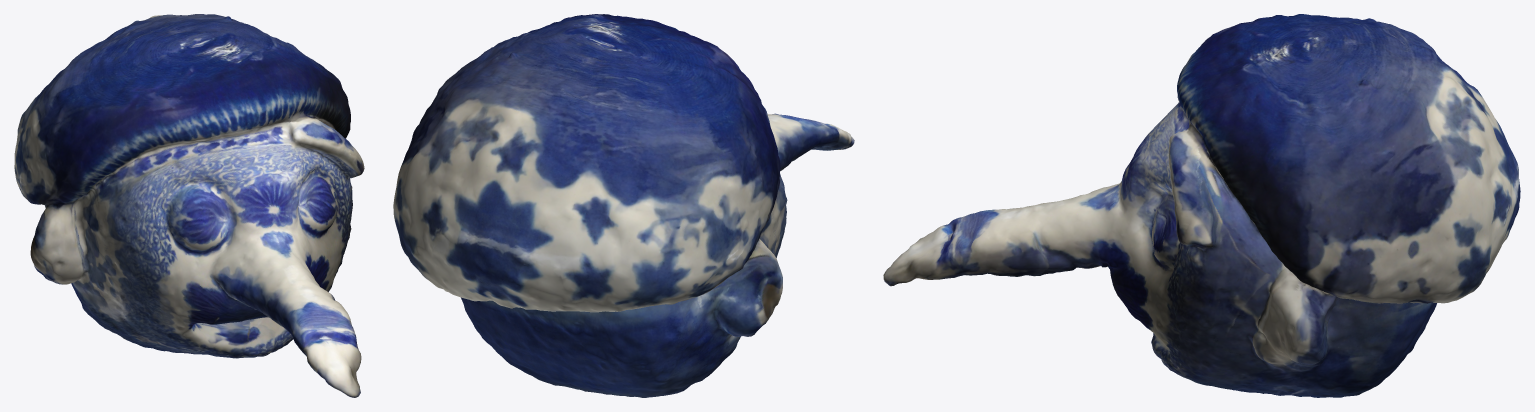
Rendered from sherman.glb.
3 renders of one model, left to right at view 1: azimuth 30°, elevation 25°; view 2: azimuth 150°, elevation 25°; view 3: azimuth 270°, elevation 25°, orthographic. The views are drawn at different scales.
Size of the model in its own units: 1.29 by 1.2 by 2.
1 material, 1 textured.
